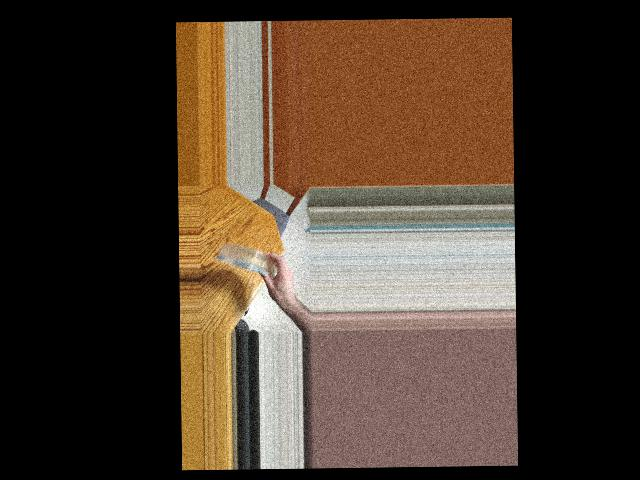cheese: (215, 246, 283, 271)
